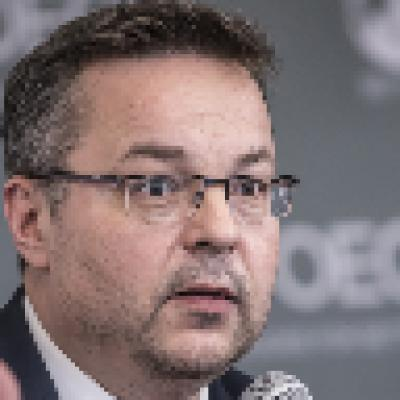surprise: (51, 46, 276, 364)
